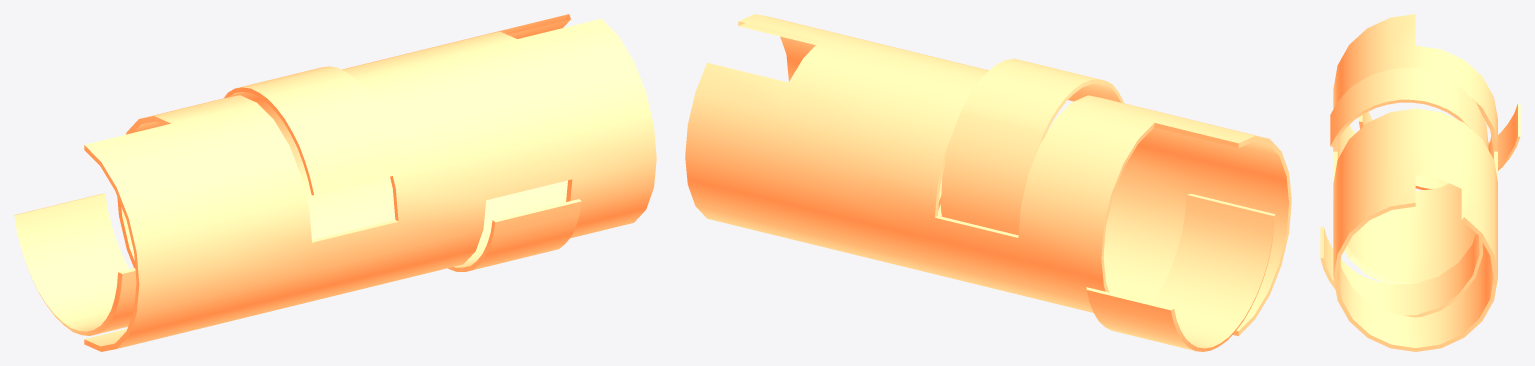
The model's file is SM_PipeMadule2.fbx.
3 renders of one model, left to right at view 1: azimuth 30°, elevation 25°; view 2: azimuth 150°, elevation 25°; view 3: azimuth 270°, elevation 25°, orthographic. The views are drawn at different scales.
Visible parts, largest first — view 1: SM_PipeMadule2_LOD0; view 2: SM_PipeMadule2_LOD0; view 3: SM_PipeMadule2_LOD0.
Boxes of the visible parts, left/top/right/bottom form: SM_PipeMadule2_LOD0: left=14, top=14, right=656, bottom=351; SM_PipeMadule2_LOD0: left=685, top=14, right=1291, bottom=351; SM_PipeMadule2_LOD0: left=1320, top=14, right=1520, bottom=351.
Size of the model in its own units: 459 by 205 by 179.
